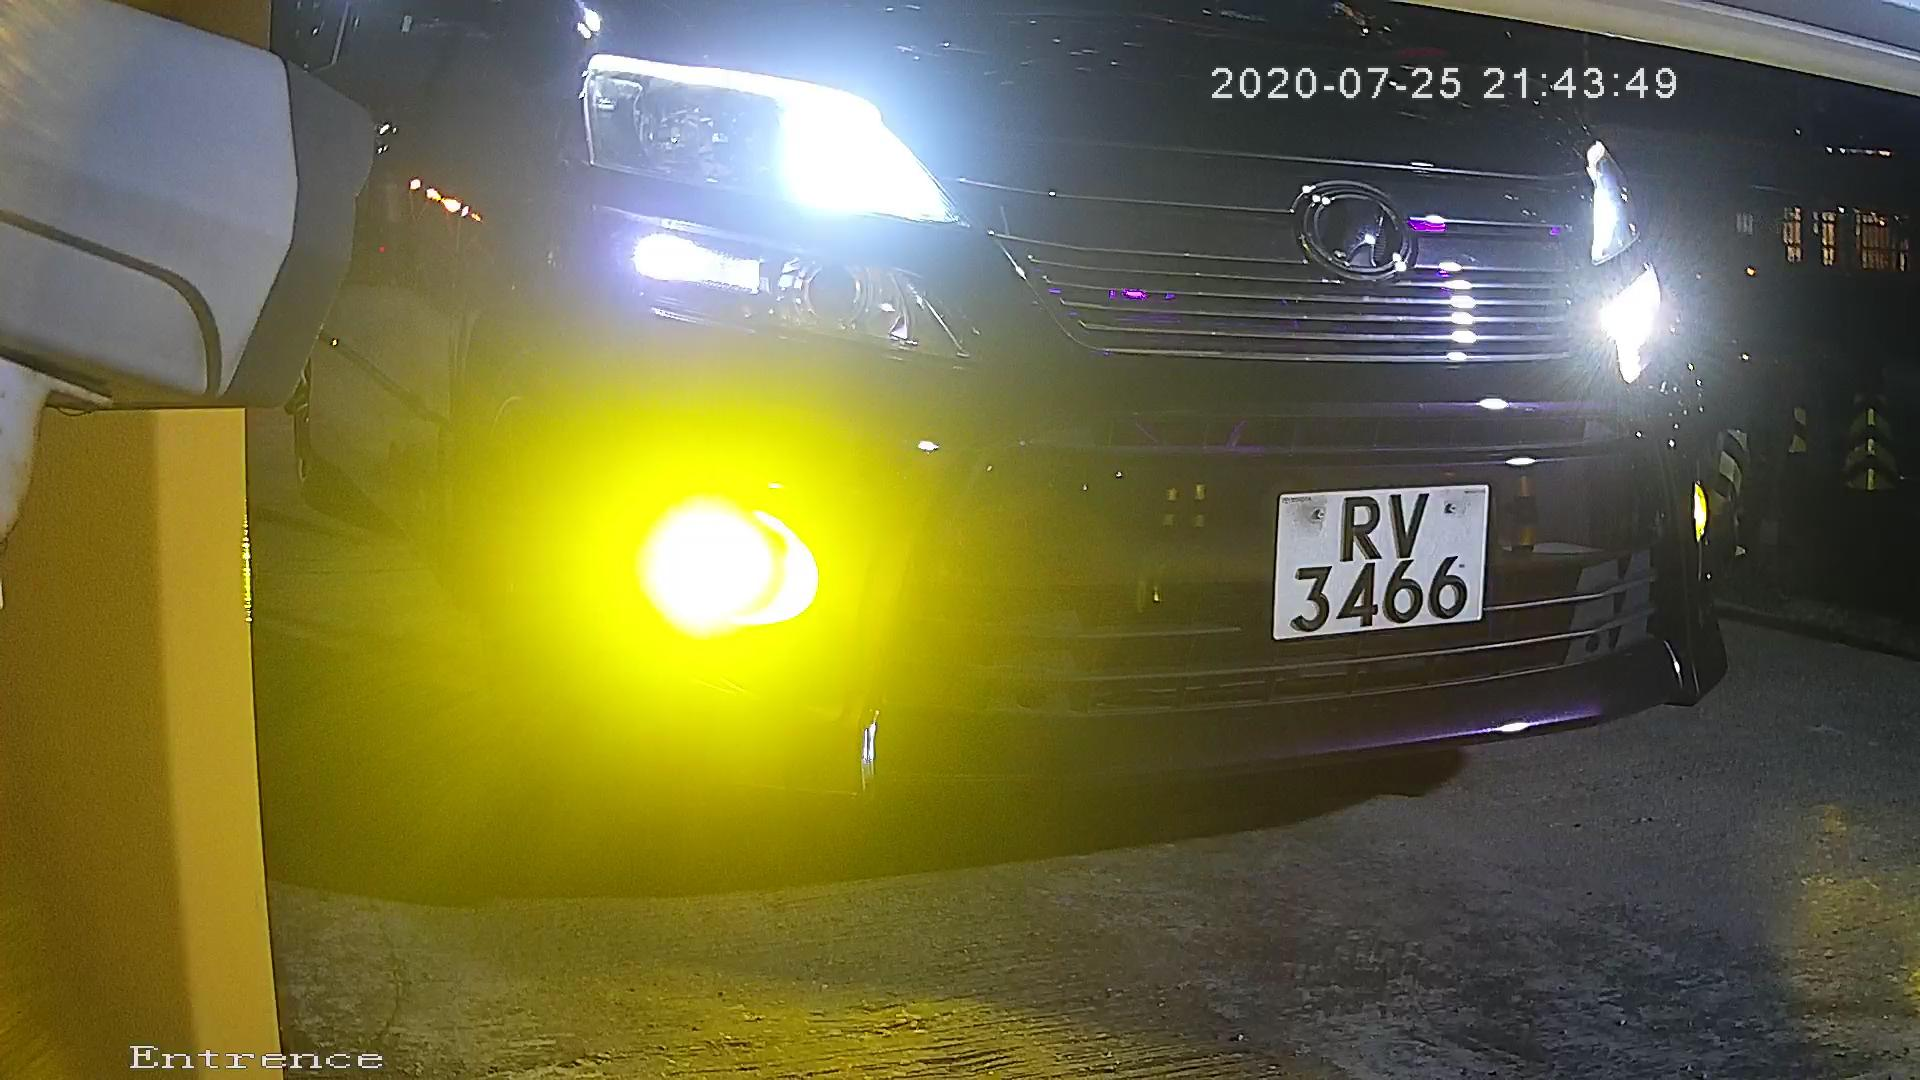License Plate: (1261, 473, 1492, 651)
